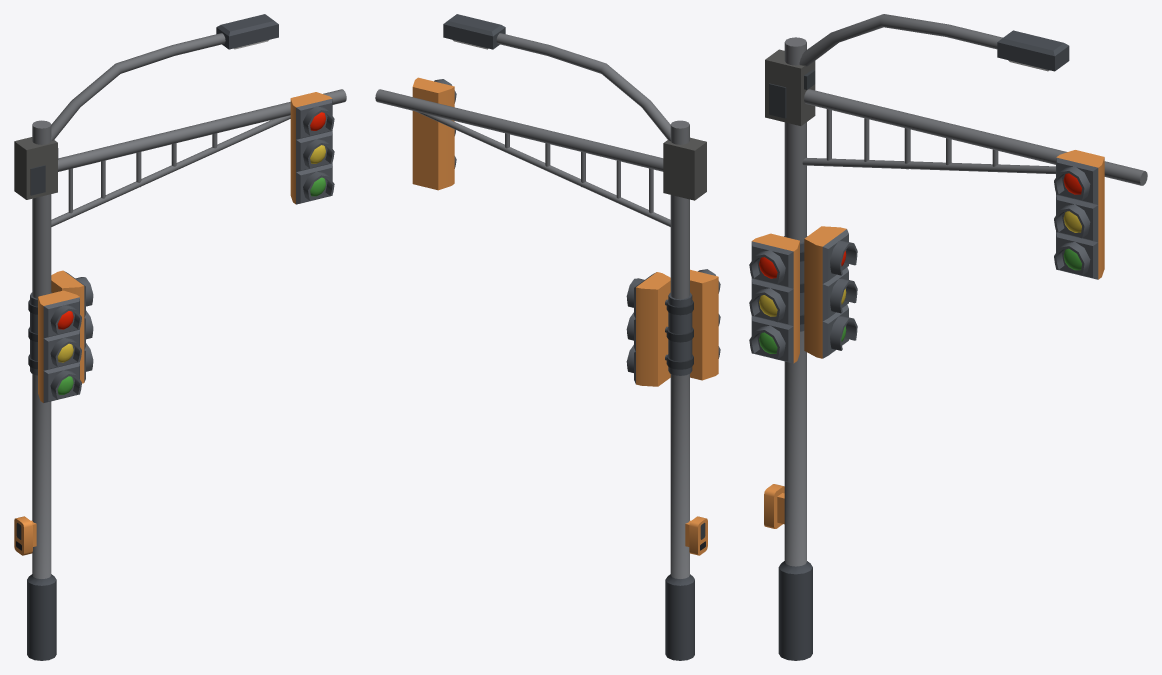
The model's file is Traffic Light_3.fbx.
3 renders of one model, left to right at view 1: azimuth 30°, elevation 25°; view 2: azimuth 150°, elevation 25°; view 3: azimuth 330°, elevation 25°, orthographic. The views are drawn at different scales.
Parts seen in each view (by area): view 1: Traffic Light_3; view 2: Traffic Light_3; view 3: Traffic Light_3.
Part boxes in pixels (bbox=[...]): Traffic Light_3: bbox=[14, 14, 346, 660]; Traffic Light_3: bbox=[375, 14, 720, 660]; Traffic Light_3: bbox=[749, 14, 1147, 660].
Bounding box in the file's own units: 240 × 412 × 49.45.
